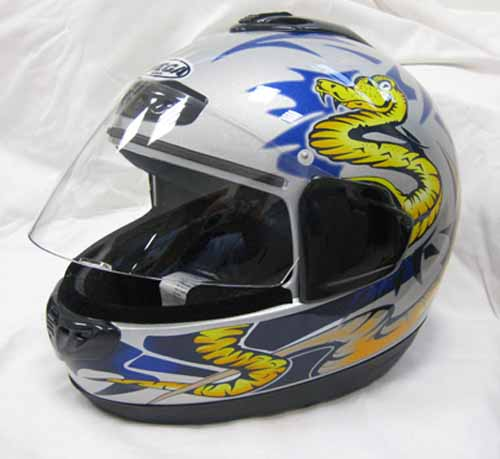helmet: (91, 26, 456, 382)
